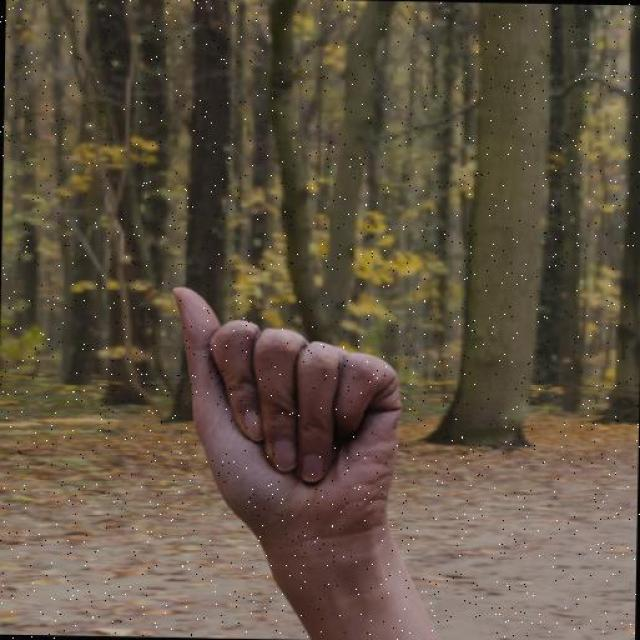A: (159, 276, 412, 568)
